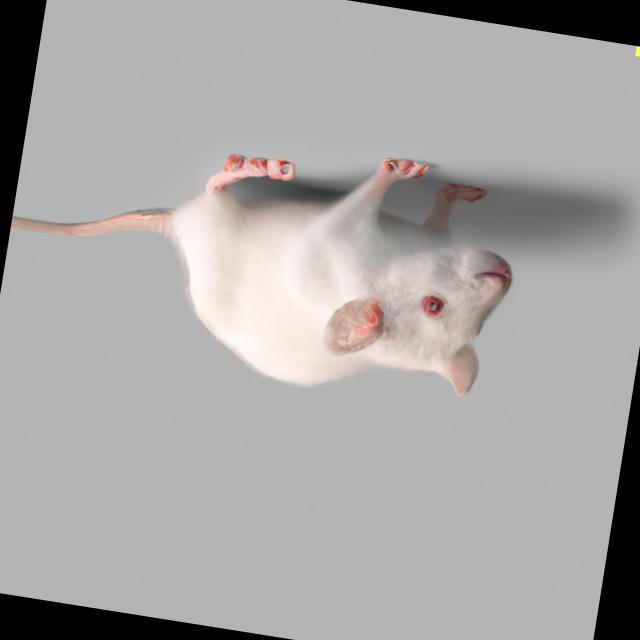rodents: (140, 118, 558, 434)
